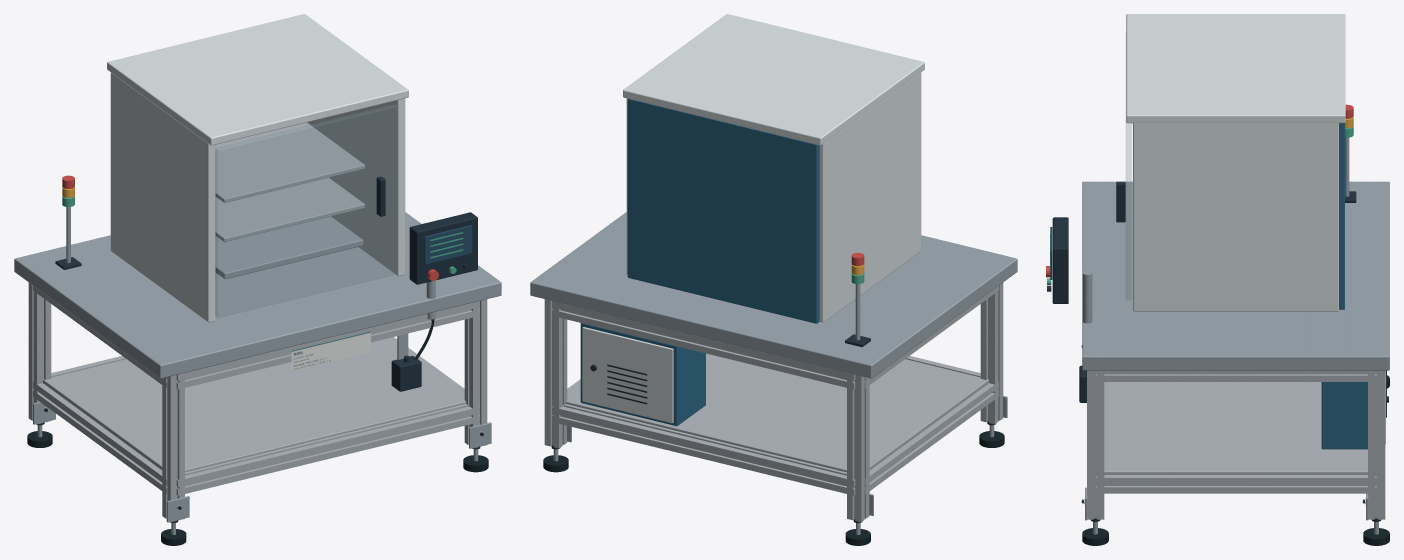
Rendered from steam-cooker-cell.glb.
3 views of the same model, side by side, from view 1: azimuth 30°, elevation 25°; view 2: azimuth 150°, elevation 25°; view 3: azimuth 270°, elevation 25° (orthographic). The views are drawn at different scales.
Parts seen in each view (by area): view 1: ClosedMachineBed_40, DoorFrame_75, LowerShelf_41, ClosedRoof_74, EnclosureSide_71, EnclosureSide_72, InternalRack_79, SlottedExtrusion_34, InternalRack_78, ProcessShelf_77, SlottedExtrusion_35, SlottedExtrusion_11 (+8 smaller); view 2: ClosedBack_73, ClosedMachineBed_40, ClosedRoof_74, LowerShelf_41, EnclosureSide_71, BackDoor_43, SlottedExtrusion_32, SlottedExtrusion_33, SlottedExtrusion_3, SlottedExtrusion_19, Cabinet_42, SlottedExtrusion_36 (+2 smaller); view 3: EnclosureSide_72, ClosedMachineBed_40, ClosedRoof_74, LowerShelf_41, SlottedExtrusion_38, SlottedExtrusion_39, Cabinet_42, SlottedExtrusion_27, SlottedExtrusion_19, ConsoleBack_52, ClosedBack_73, DoorFrame_75 (+1 smaller).
Part boxes in pixels (box(x1,y1,x2,y2)): ClosedMachineBed_40: box(14, 212, 501, 378); DoorFrame_75: box(215, 104, 397, 317); LowerShelf_41: box(43, 338, 466, 472); ClosedRoof_74: box(107, 14, 408, 145); EnclosureSide_71: box(110, 72, 215, 322); EnclosureSide_72: box(307, 98, 405, 276); InternalRack_79: box(215, 122, 365, 202); SlottedExtrusion_34: box(176, 404, 479, 495); InternalRack_78: box(215, 177, 365, 242); ProcessShelf_77: box(215, 216, 363, 279); SlottedExtrusion_35: box(176, 301, 479, 389); SlottedExtrusion_11: box(162, 373, 184, 521); ClosedBack_73: box(627, 99, 819, 323); ClosedMachineBed_40: box(530, 212, 1017, 378); ClosedRoof_74: box(623, 14, 924, 145); LowerShelf_41: box(565, 353, 988, 472); EnclosureSide_71: box(819, 72, 921, 322); BackDoor_43: box(582, 327, 673, 423); SlottedExtrusion_32: box(552, 404, 855, 495); SlottedExtrusion_33: box(552, 301, 855, 389); SlottedExtrusion_3: box(847, 374, 869, 521); SlottedExtrusion_19: box(544, 299, 567, 448); Cabinet_42: box(580, 323, 705, 426); SlottedExtrusion_36: box(864, 381, 998, 494); EnclosureSide_72: box(1133, 123, 1338, 311); ClosedMachineBed_40: box(1082, 181, 1389, 370); ClosedRoof_74: box(1126, 14, 1345, 123); LowerShelf_41: box(1104, 382, 1367, 474); SlottedExtrusion_38: box(1095, 475, 1376, 493); SlottedExtrusion_39: box(1095, 370, 1376, 381); Cabinet_42: box(1321, 382, 1367, 449); SlottedExtrusion_27: box(1087, 370, 1104, 519); SlottedExtrusion_19: box(1368, 370, 1385, 519); ConsoleBack_52: box(1052, 217, 1068, 303); ClosedBack_73: box(1339, 123, 1344, 309); DoorFrame_75: box(1126, 123, 1131, 299).
Bounding box in the file's own units: 1.55 × 1.64 × 1.29.
12 materials, 3 textured.
